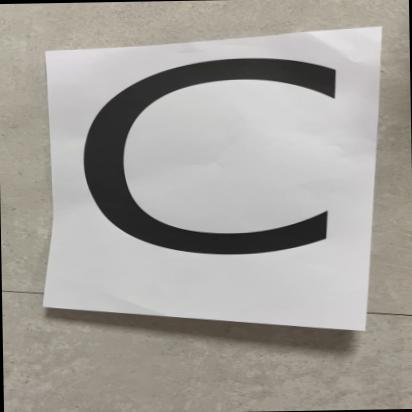seat: (32, 18, 412, 358)
